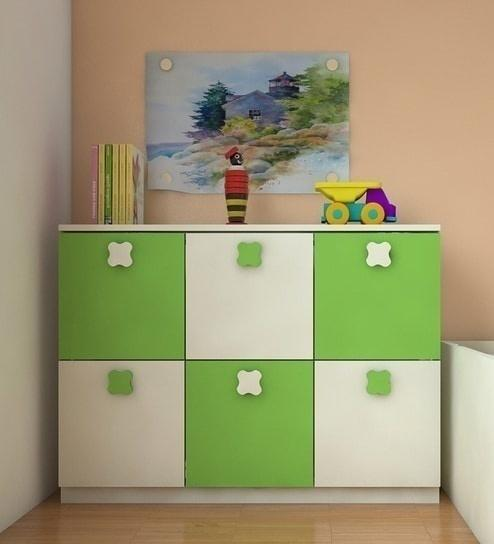cabinet_door: (184, 230, 311, 365), (58, 231, 183, 356), (312, 233, 438, 357), (59, 363, 185, 483), (184, 363, 311, 482), (311, 360, 437, 479)
handle: (362, 367, 397, 402), (361, 239, 397, 270), (104, 368, 137, 401), (233, 238, 265, 272), (234, 369, 265, 399), (105, 241, 135, 271)
